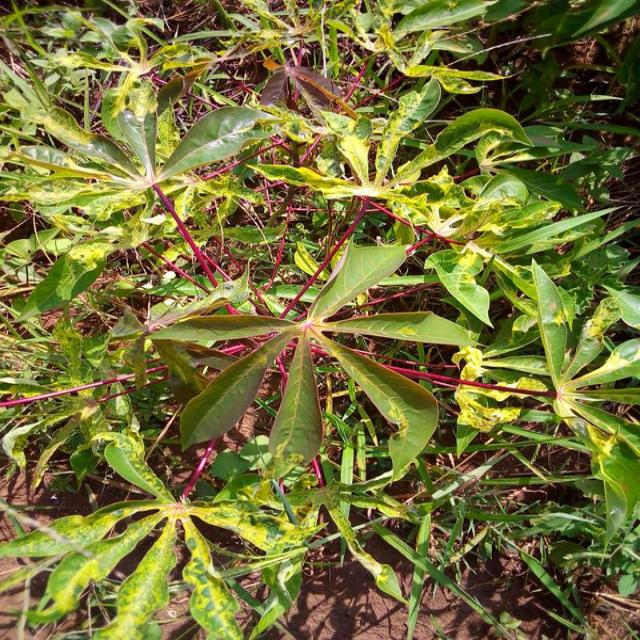cassava leaf: (2, 5, 638, 637)
